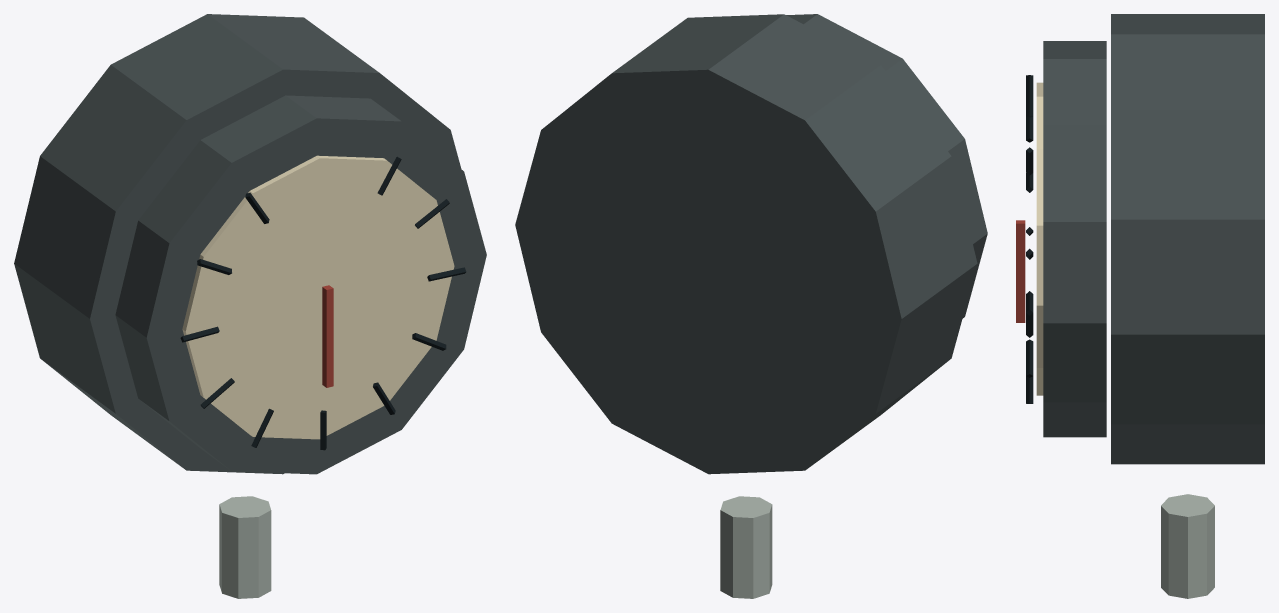
File: blender_barometric_probe_1.glb
3 views of the same model, side by side, from view 1: azimuth 30°, elevation 25°; view 2: azimuth 150°, elevation 25°; view 3: azimuth 270°, elevation 25° (orthographic).
Parts seen in each view (by area): view 1: blender_barometric_probe_1; view 2: blender_barometric_probe_1; view 3: blender_barometric_probe_1.
Part boxes in pixels (x1=…): blender_barometric_probe_1: x1=14, y1=14, x2=486, y2=598; blender_barometric_probe_1: x1=515, y1=14, x2=987, y2=598; blender_barometric_probe_1: x1=1016, y1=14, x2=1264, y2=598.
Bounding box in the file's own units: 0.1 × 0.135 × 0.055.
Materials: 1 (1 with a texture image).
